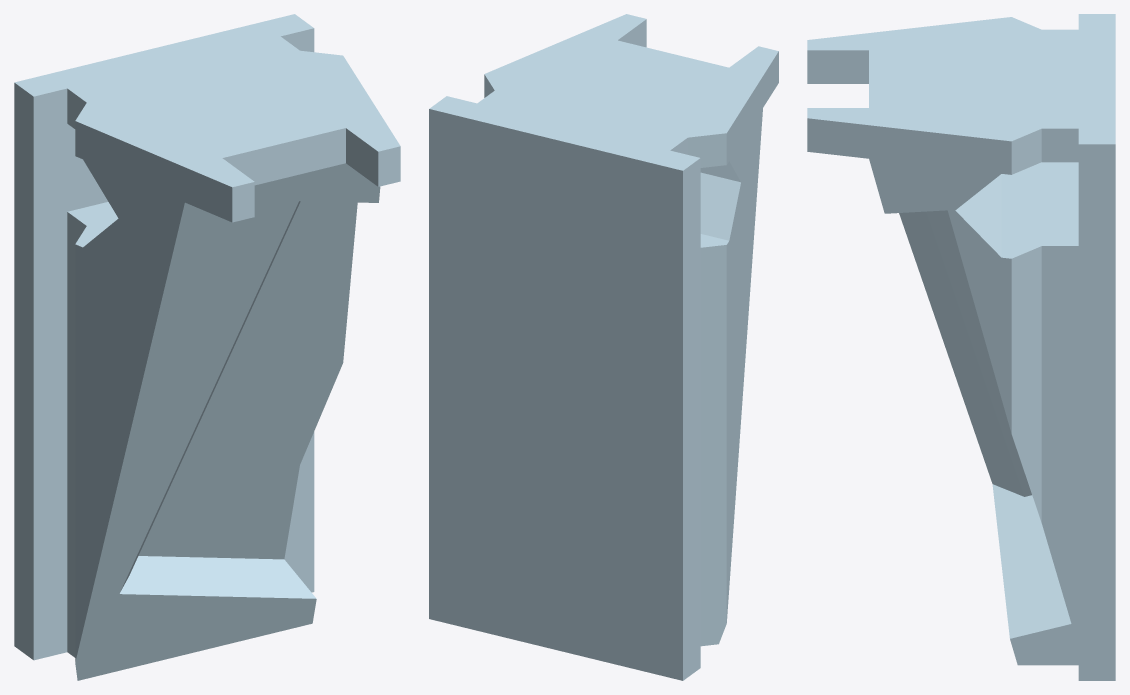
File: NeckHeadSupport.gltf
3 renders of one model, left to right at view 1: azimuth 30°, elevation 25°; view 2: azimuth 150°, elevation 25°; view 3: azimuth 270°, elevation 25°, orthographic. The views are drawn at different scales.
Parts seen in each view (by area): view 1: NuttSupport; view 2: NuttSupport; view 3: NuttSupport.
Part boxes in pixels (x1,y1,x2,y2): NuttSupport: (14, 14, 400, 680); NuttSupport: (429, 14, 778, 680); NuttSupport: (807, 14, 1115, 680).
Bounding box in the file's own units: 0.1 × 0.192 × 0.1.
